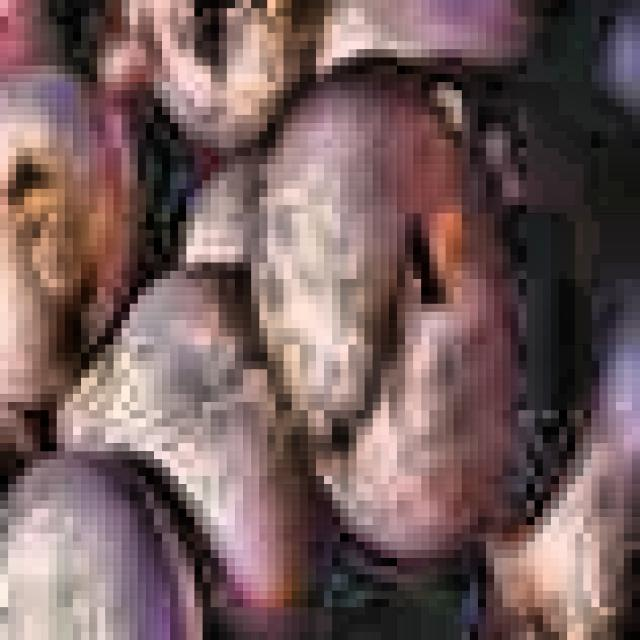Affected: (394, 149, 536, 297), (16, 189, 100, 309), (591, 517, 640, 640)
